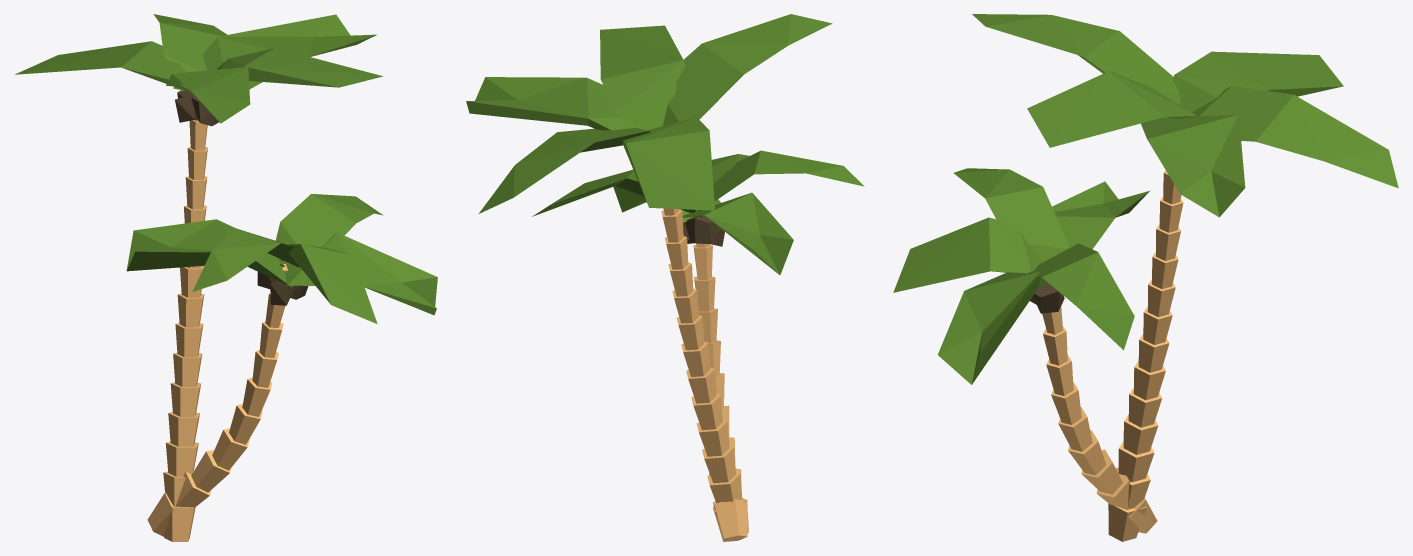
Rendered from palm_tree_group.obj.
3 renders of one model, left to right at view 1: azimuth 30°, elevation 25°; view 2: azimuth 150°, elevation 25°; view 3: azimuth 270°, elevation 25°, orthographic. The views are drawn at different scales.
Visible parts, largest first — view 1: main_palm.001.1, main_palm.001.2; view 2: main_palm.001.1, main_palm.001.2; view 3: main_palm.001.1, main_palm.001.2.
Boxes of the visible parts, x1,y1,x2,y2 form: main_palm.001.1: (15, 14, 382, 541); main_palm.001.2: (126, 194, 437, 536); main_palm.001.1: (466, 14, 832, 539); main_palm.001.2: (532, 150, 864, 541); main_palm.001.1: (972, 14, 1398, 541); main_palm.001.2: (893, 168, 1157, 533).
Bounding box in the file's own units: 7.53 × 11.61 × 10.36.
